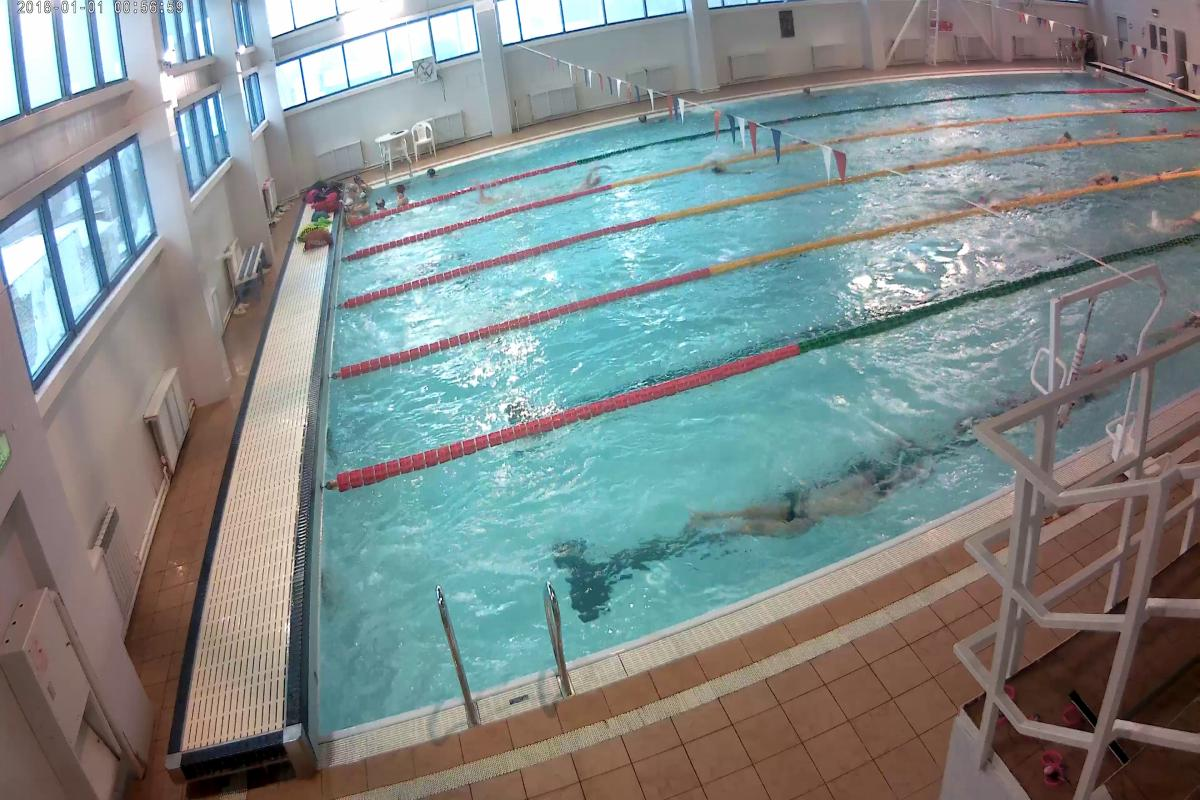swimmer: (704, 467, 888, 538), (570, 162, 616, 188), (1090, 168, 1124, 186), (702, 160, 736, 178)
